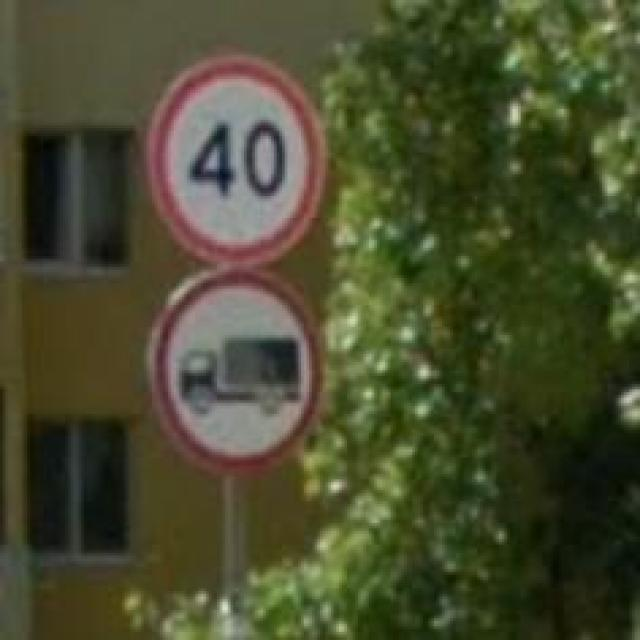speed limit 40: (144, 48, 328, 267)
